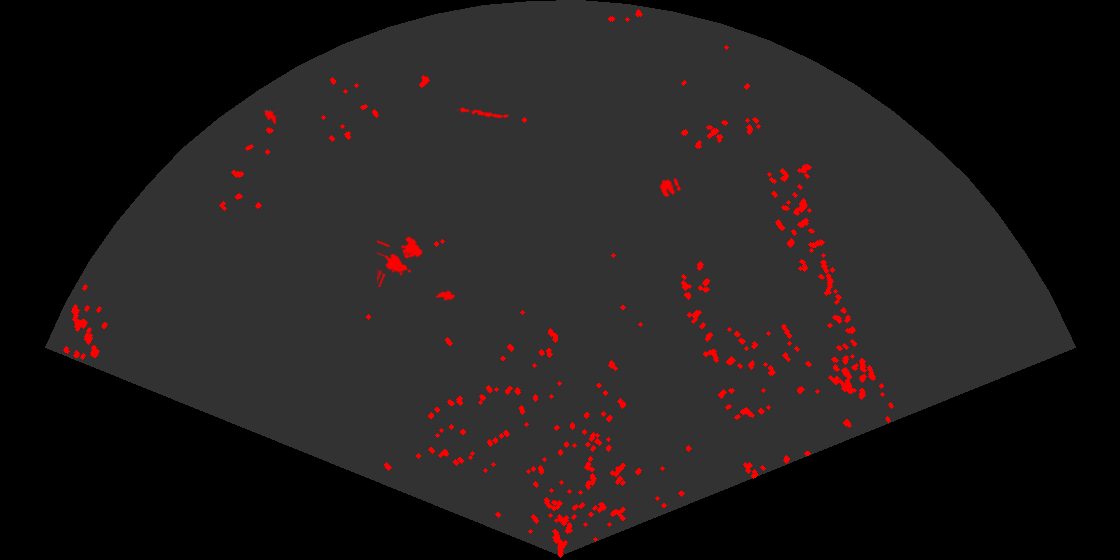AUV: (262, 107, 279, 126), (434, 288, 457, 302)
ball: (658, 176, 683, 199)
cage: (377, 235, 424, 287)
chain: (457, 106, 509, 120)
